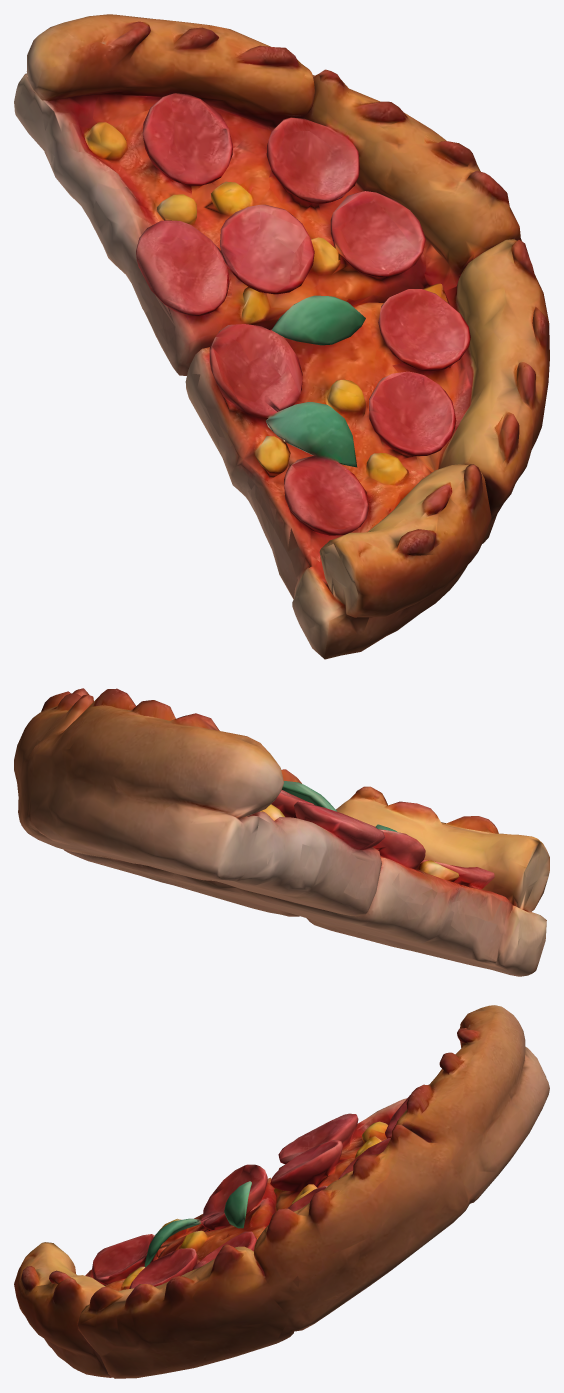
File: pizza.glb
3 views of the same model, one above another, from view 1: azimuth 30°, elevation 25°; view 2: azimuth 150°, elevation 25°; view 3: azimuth 270°, elevation 25° (orthographic). The views are drawn at different scales.
Visible parts, largest first — view 1: pizza; view 2: pizza; view 3: pizza.
Part boxes in pixels (x1,y1,x2,y2): pizza: (14, 14, 549, 659); pizza: (14, 688, 549, 976); pizza: (14, 1005, 549, 1378).
Bounding box in the file's own units: 0.8865 × 1 × 1.44.
Materials: 1 (1 with a texture image).
